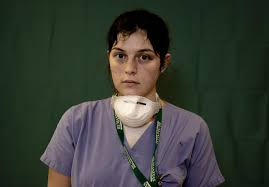mask_weared_incorrect: (112, 47, 159, 113)
